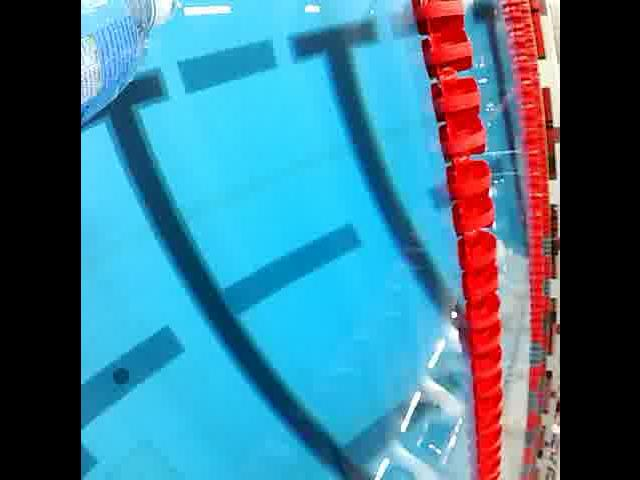Bottle: (80, 0, 184, 129)
